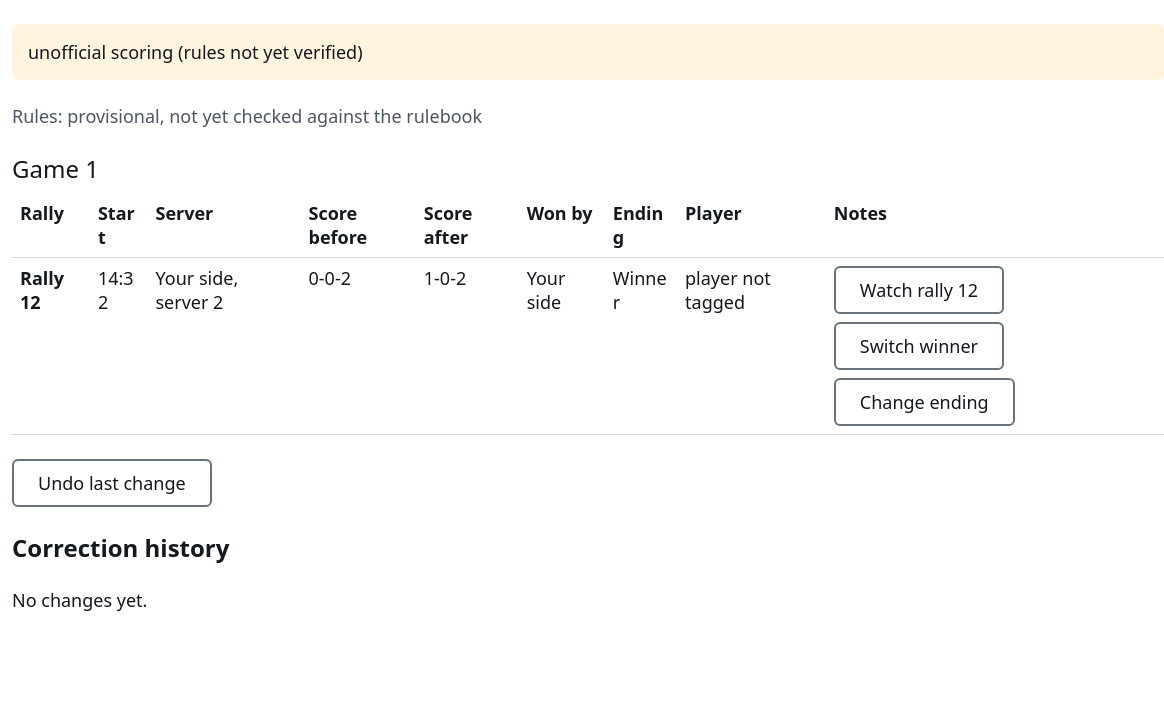
Test: rally video V-01 (ST-037) › says so when the link cannot be had
Click the button "Watch rally 12" at (919, 290), box 834,266 -> 1004,314
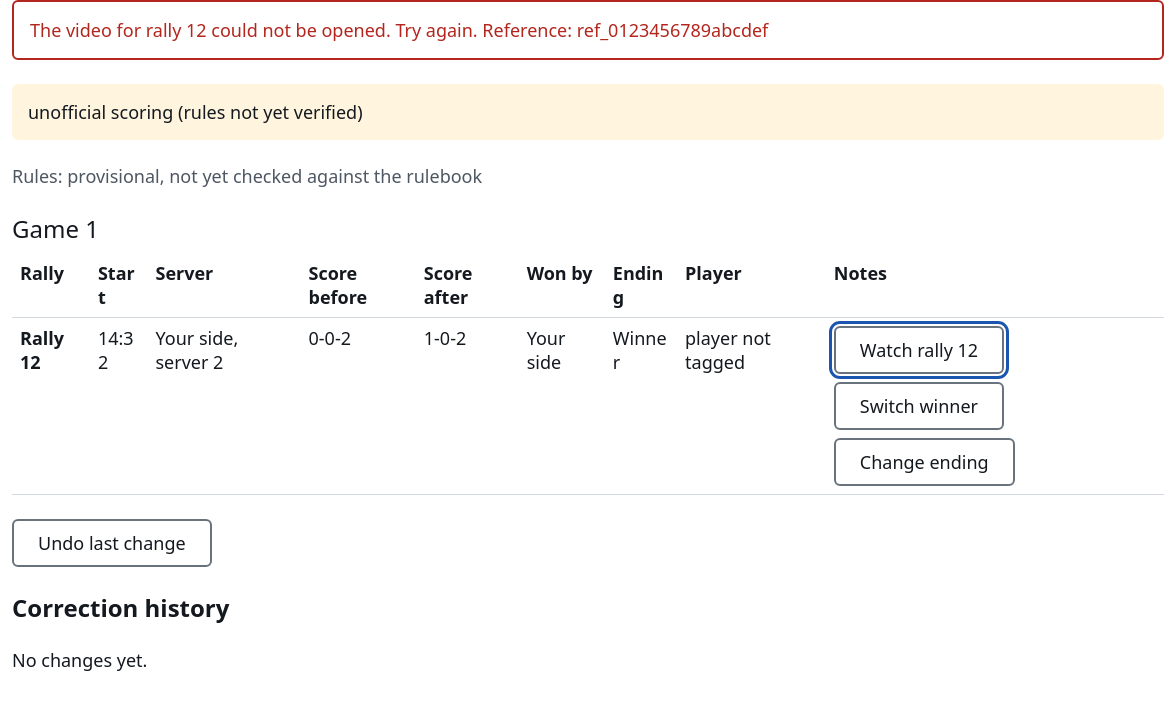
Now the message shows "The video for rally 12 could not be opened. Try again. Reference: ref_0123456789abcdef", box 30,18 -> 768,42
